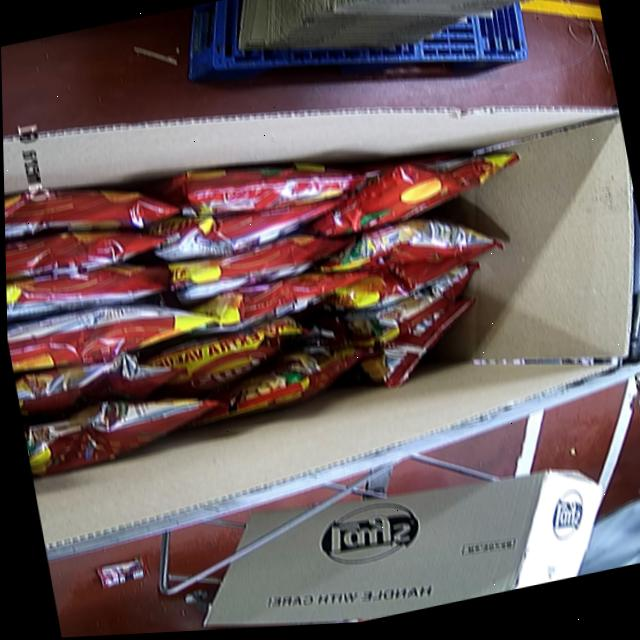MASALA: (3, 87, 560, 481)
